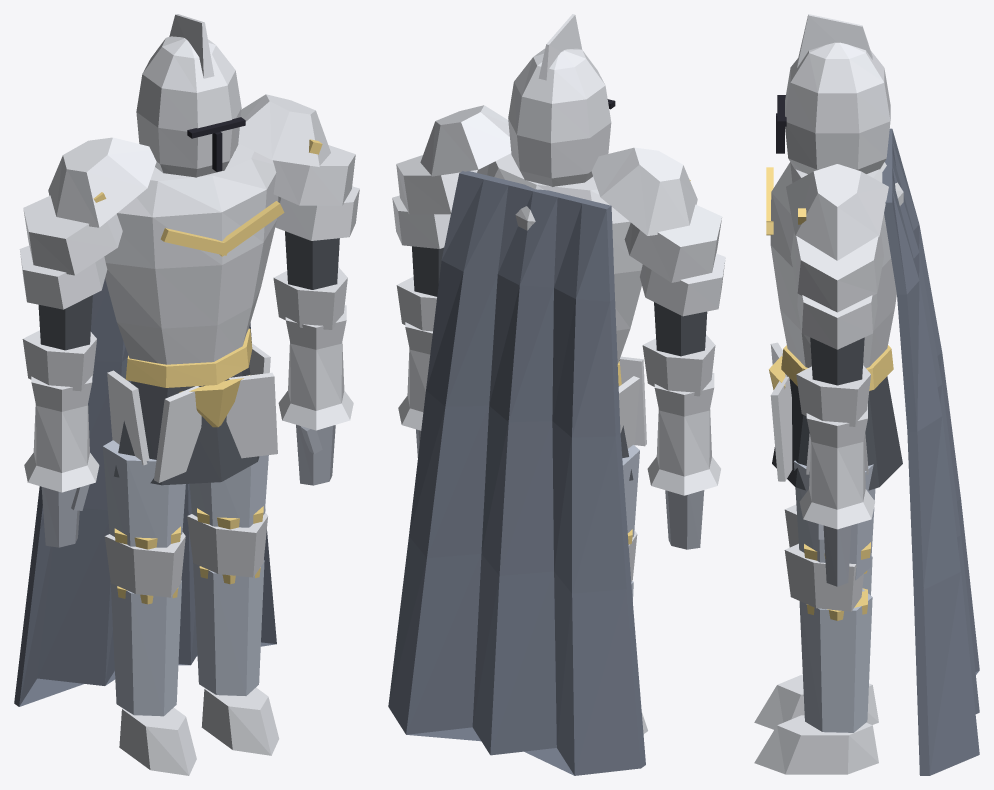
Rendered from origami_knight.glb.
3 renders of one model, left to right at view 1: azimuth 30°, elevation 25°; view 2: azimuth 150°, elevation 25°; view 3: azimuth 270°, elevation 25°, orthographic. The views are drawn at different scales.
Parts seen in each view (by area): view 1: OrigamiKnight; view 2: OrigamiKnight; view 3: OrigamiKnight.
Boxes of the visible parts, x1=… form: OrigamiKnight: x1=14, y1=14, x2=359, y2=775; OrigamiKnight: x1=388, y1=14, x2=725, y2=775; OrigamiKnight: x1=754, y1=14, x2=979, y2=775.
Bounding box in the file's own units: 0.9408 × 1.93 × 0.542.
